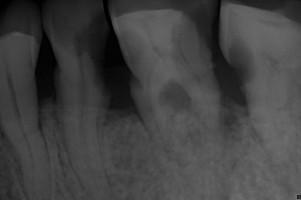Endo-Periodontal Lesion: (160, 80, 192, 112)
